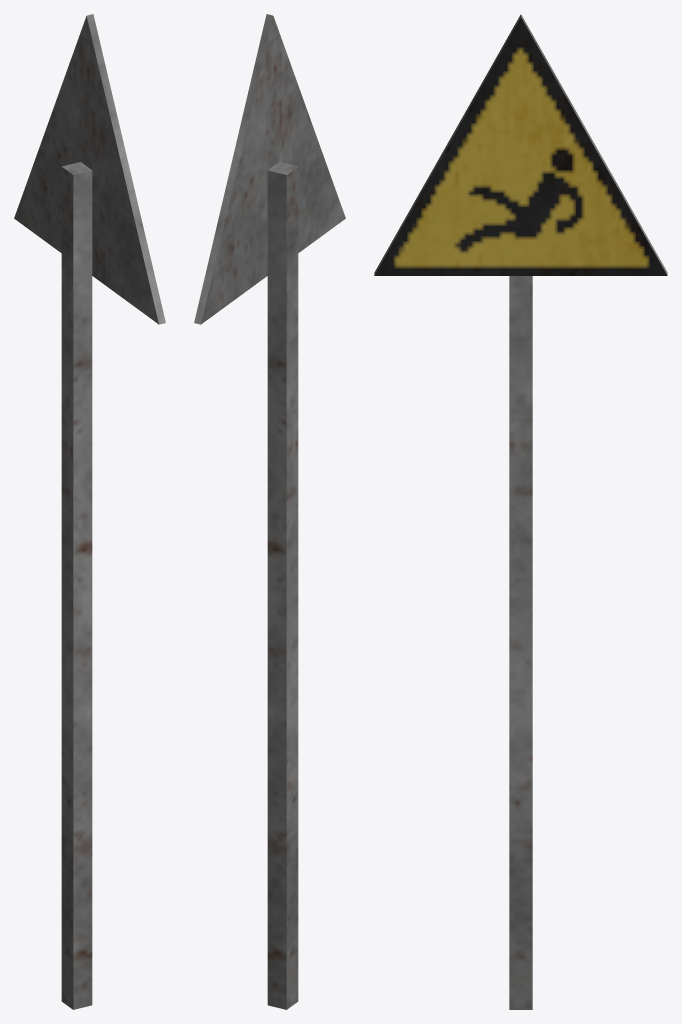
The model's file is Sign_17.fbx.
3 renders of one model, left to right at view 1: azimuth 30°, elevation 25°; view 2: azimuth 150°, elevation 25°; view 3: azimuth 270°, elevation 25°, orthographic.
Parts seen in each view (by area): view 1: Sign_17; view 2: Sign_17; view 3: Sign_17.
Boxes of the visible parts, x1=… form: Sign_17: x1=14, y1=14, x2=165, y2=1009; Sign_17: x1=194, y1=14, x2=345, y2=1009; Sign_17: x1=374, y1=14, x2=667, y2=1009.
Size of the model in its own units: 5.76 by 209 by 55.74.
